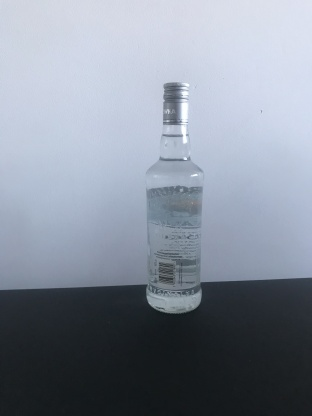nakretka: (161, 79, 191, 127)
